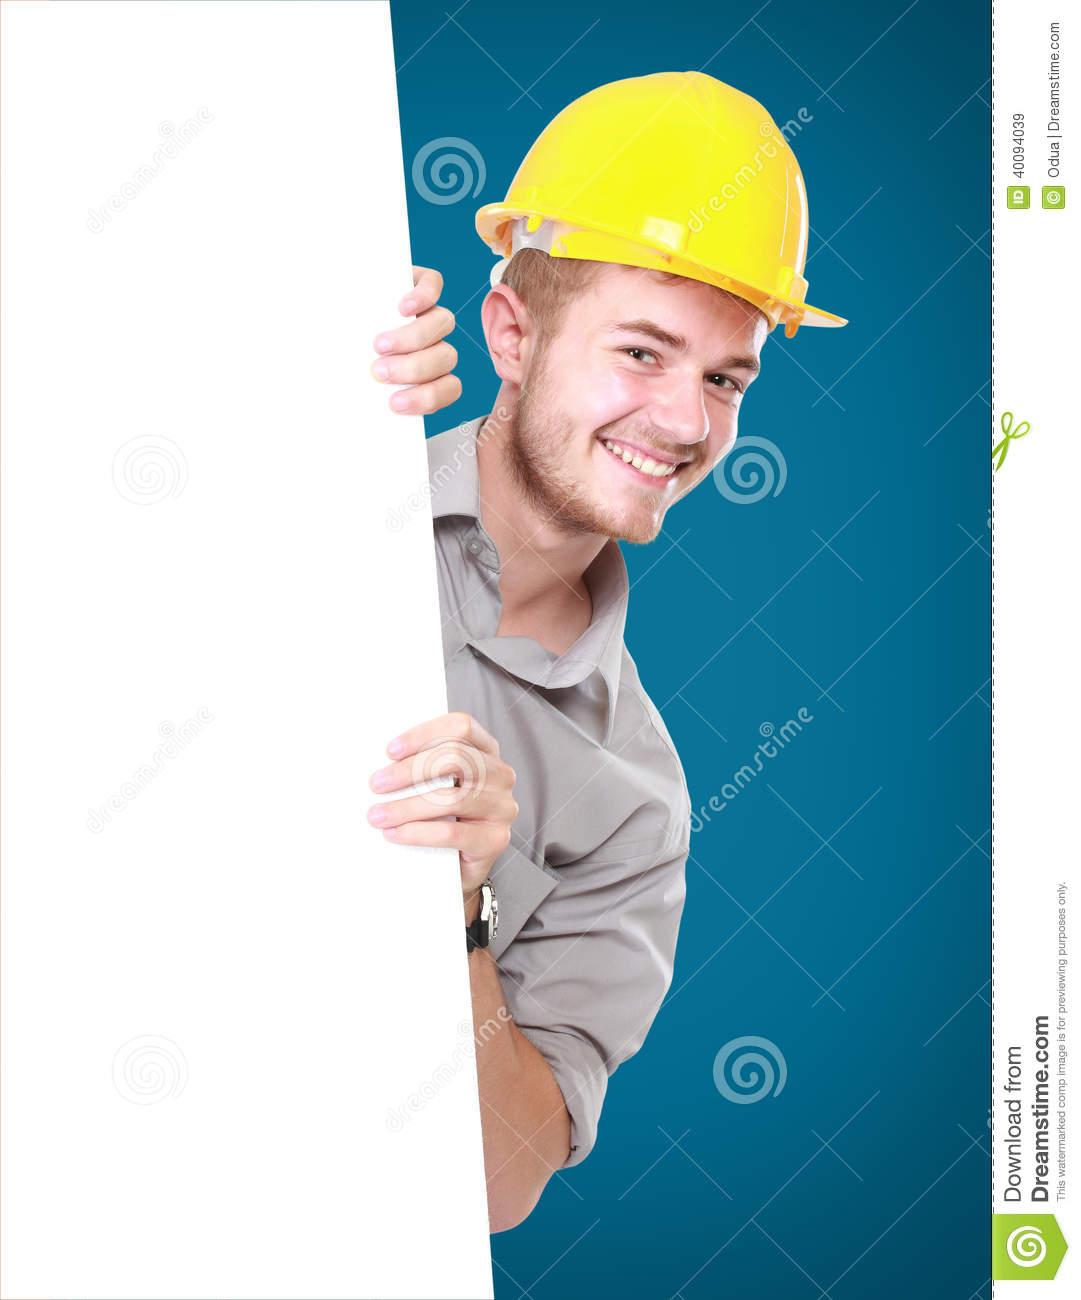helmet: (474, 73, 856, 339)
